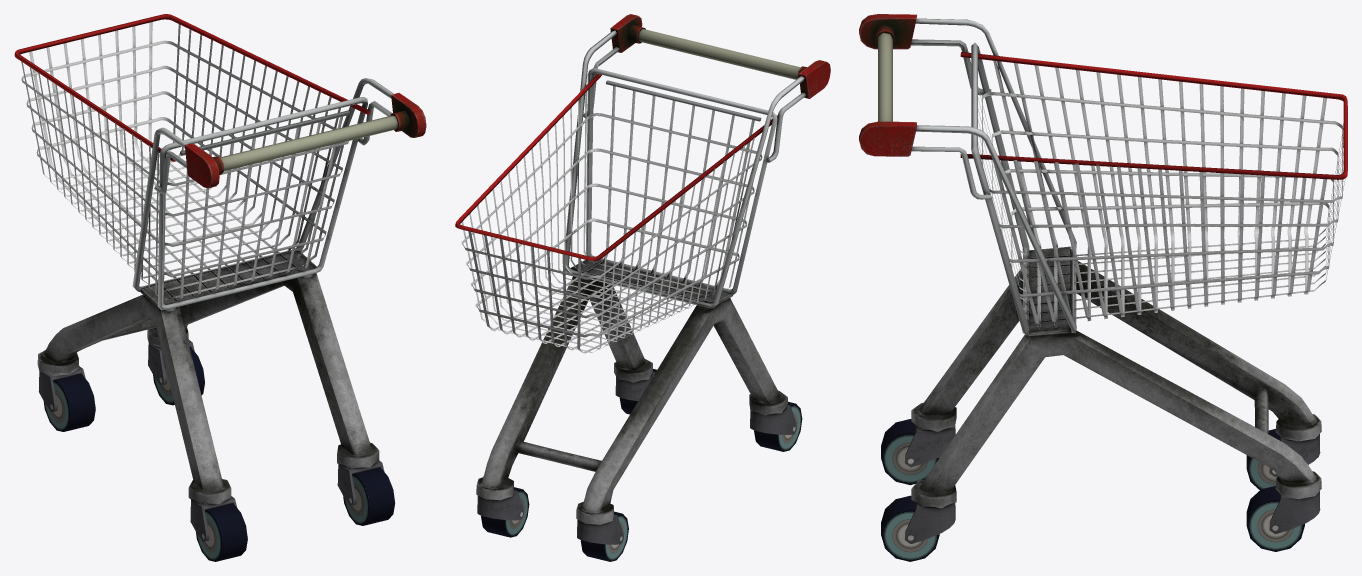
File: Shopping_car_final.fbx
The picture shows the model from 3 angles, left to right: view 1: azimuth 30°, elevation 25°; view 2: azimuth 150°, elevation 25°; view 3: azimuth 270°, elevation 25°; orthographic projection. The views are drawn at different scales.
Visible parts, largest first — view 1: Base2_low, Wheel2_low, Wheel2_low.002, Wheel2_low.003, Wheel1_low.003, Wheel1_low, Wheel1_low.002, Wheel2_low.001, Wheel1_low.001; view 2: Base2_low, Wheel1_low.001, Wheel1_low.002, Wheel1_low.003, Wheel2_low.003, Wheel2_low.001, Wheel2_low.002, Wheel1_low; view 3: Base2_low, Wheel2_low, Wheel2_low.001, Wheel2_low.002, Wheel1_low, Wheel1_low.001, Wheel1_low.003, Wheel2_low.003, Wheel1_low.002.
Boxes of the visible parts, x1,y1,x2,y2 form: Base2_low: [14, 14, 426, 504]; Wheel2_low: [343, 467, 395, 525]; Wheel2_low.002: [196, 503, 247, 561]; Wheel2_low.003: [43, 374, 95, 431]; Wheel1_low.003: [190, 496, 237, 541]; Wheel1_low: [337, 460, 384, 505]; Wheel1_low.002: [38, 366, 85, 412]; Wheel2_low.001: [153, 347, 204, 405]; Wheel1_low.001: [148, 339, 194, 385]; Base2_low: [455, 14, 830, 524]; Wheel1_low.001: [477, 490, 524, 520]; Wheel1_low.002: [577, 514, 623, 544]; Wheel1_low.003: [750, 405, 796, 434]; Wheel2_low.003: [580, 511, 628, 561]; Wheel2_low.001: [481, 487, 529, 537]; Wheel2_low.002: [754, 401, 802, 451]; Wheel1_low: [615, 372, 655, 400]; Base2_low: [859, 14, 1347, 508]; Wheel2_low: [881, 495, 939, 561]; Wheel2_low.001: [1246, 486, 1304, 551]; Wheel2_low.002: [881, 419, 939, 485]; Wheel1_low: [904, 503, 955, 543]; Wheel1_low.001: [1269, 491, 1320, 534]; Wheel1_low.003: [904, 426, 955, 467]; Wheel2_low.003: [1246, 429, 1279, 489]; Wheel1_low.002: [1269, 434, 1320, 477].
Bounding box in the file's own units: 73.67 × 137 × 135.
